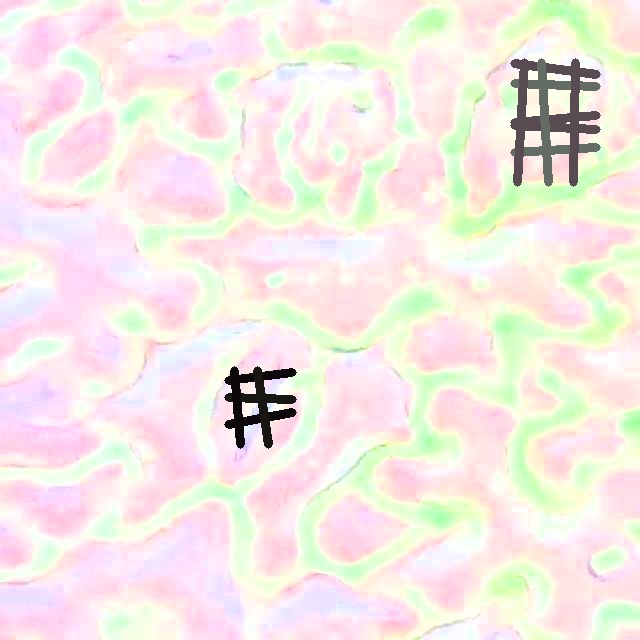close: (511, 59, 600, 186)
open: (225, 366, 295, 448)
